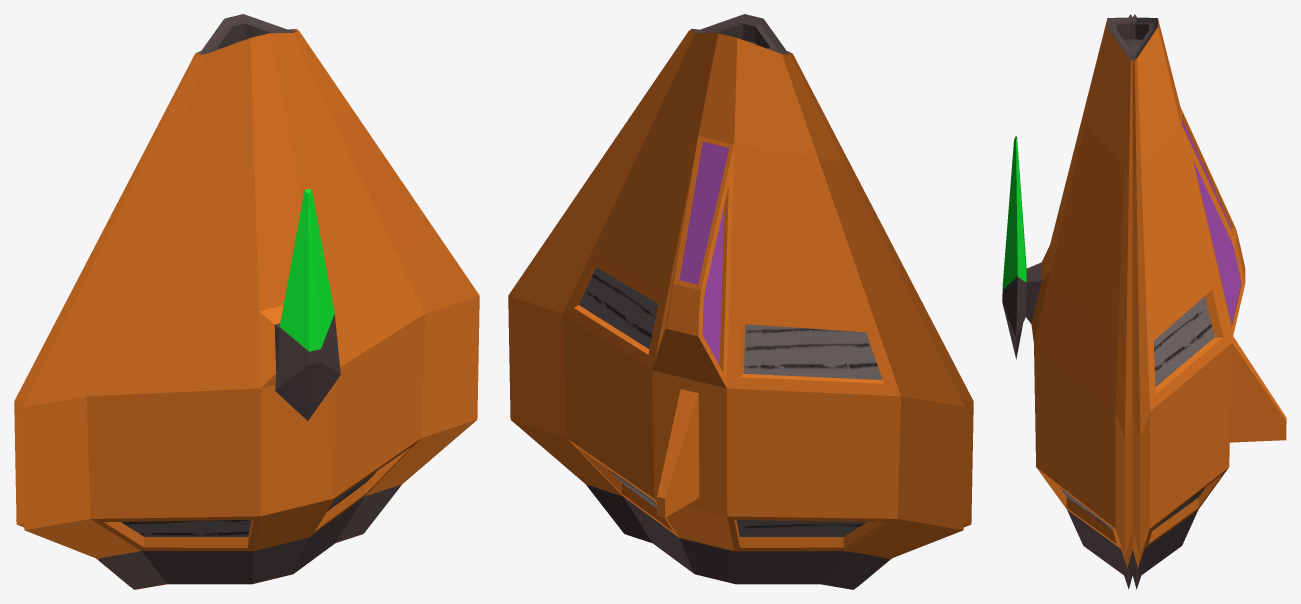
The model's file is enemy_A.fbx.
3 renders of one model, left to right at view 1: azimuth 30°, elevation 25°; view 2: azimuth 150°, elevation 25°; view 3: azimuth 270°, elevation 25°, orthographic. The views are drawn at different scales.
Visible parts, largest first — view 1: Enemy_A; view 2: Enemy_A; view 3: Enemy_A.
Boxes of the visible parts, x1,y1,x2,y2 form: Enemy_A: [14, 14, 479, 589]; Enemy_A: [508, 14, 973, 589]; Enemy_A: [1002, 14, 1286, 589].
Size of the model in its own units: 175 by 195 by 97.94.
